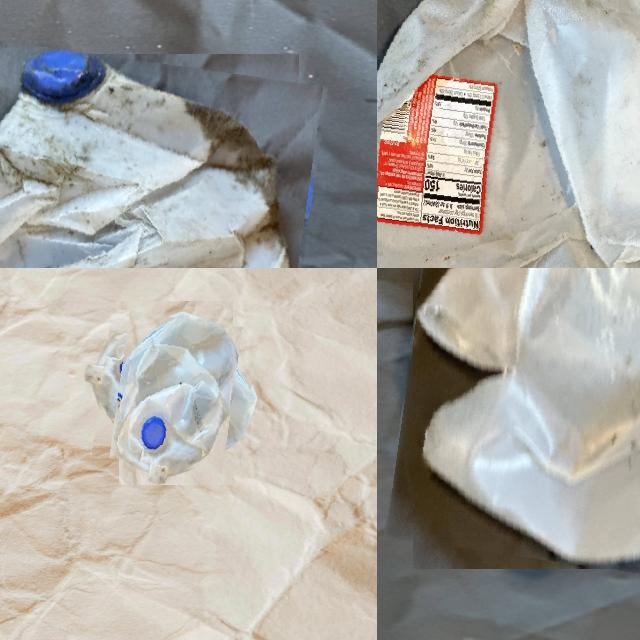milk-jug: (397, 268, 640, 581), (377, 0, 640, 268), (0, 46, 316, 268), (96, 312, 255, 471)
